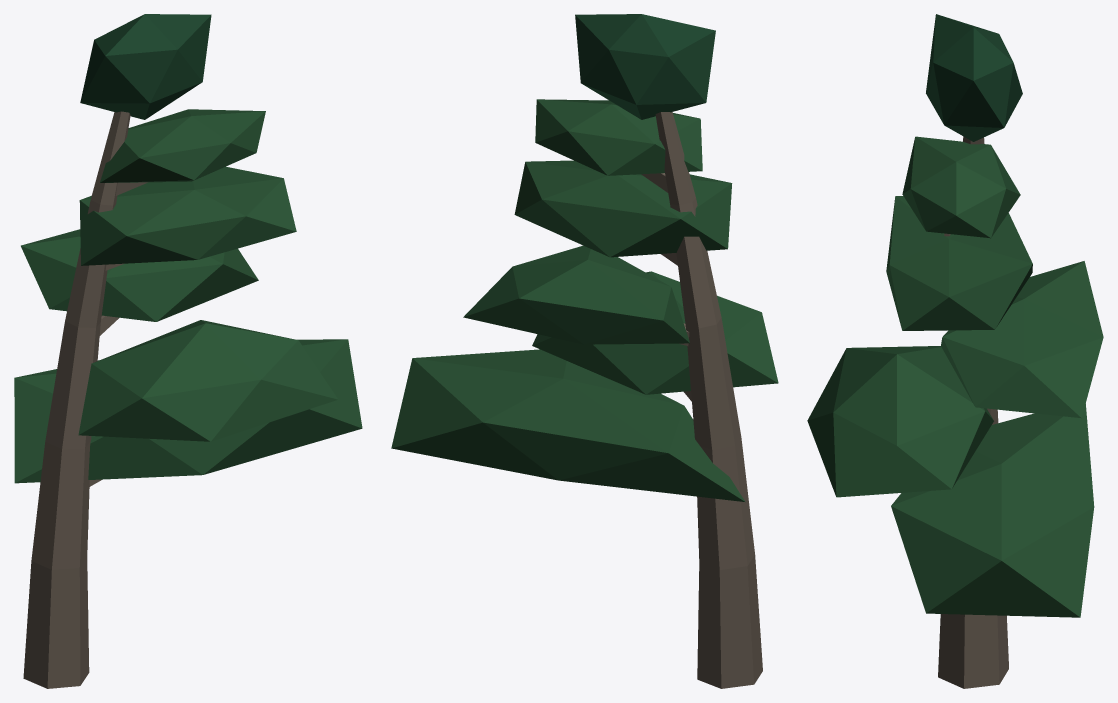
File: Tree_Alpine_A.glb
3 renders of one model, left to right at view 1: azimuth 30°, elevation 25°; view 2: azimuth 150°, elevation 25°; view 3: azimuth 270°, elevation 25°, orthographic. The views are drawn at different scales.
Parts seen in each view (by area): view 1: Tree_Alpine_A; view 2: Tree_Alpine_A; view 3: Tree_Alpine_A.
Boxes of the visible parts, x1,y1,x2,y2 form: Tree_Alpine_A: [14, 14, 362, 688]; Tree_Alpine_A: [391, 14, 778, 688]; Tree_Alpine_A: [807, 14, 1103, 688].
Size of the model in its own units: 2.26 by 4.15 by 1.61.
